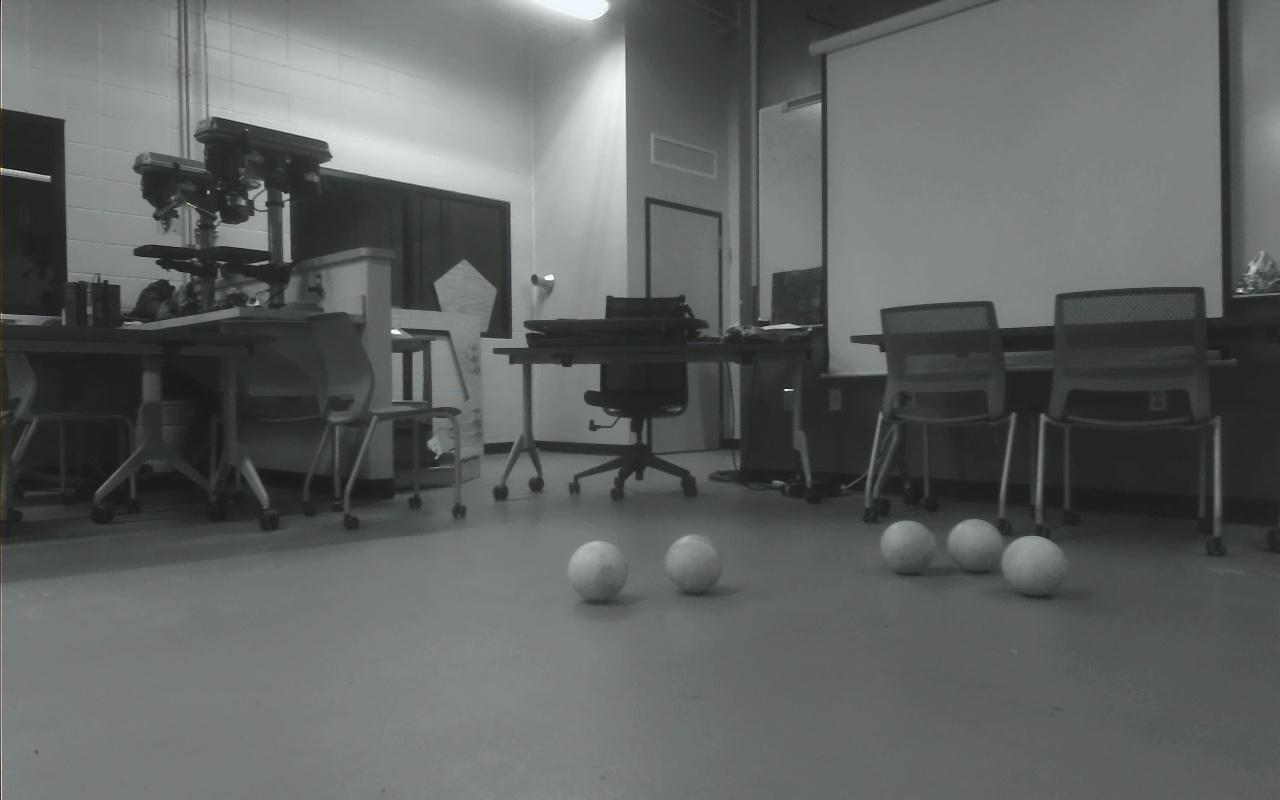Fuel: (1001, 534, 1068, 598), (567, 539, 628, 603), (664, 533, 724, 595), (946, 517, 1005, 573), (879, 519, 937, 575)
